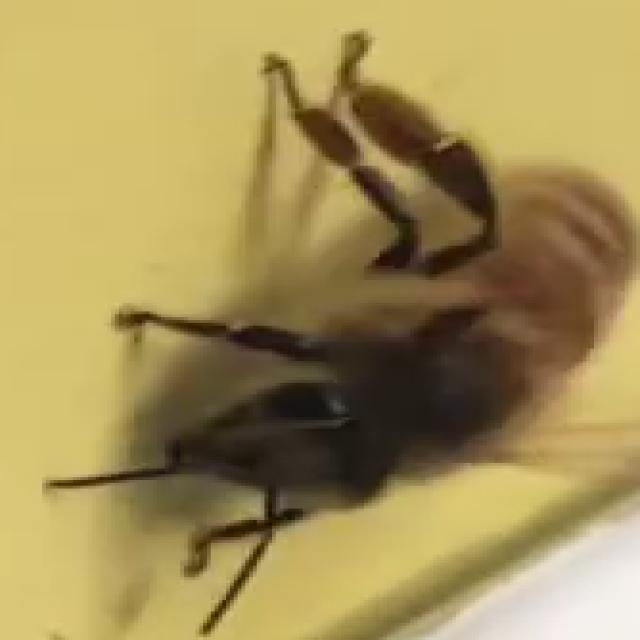honeybee: (146, 37, 640, 632)
